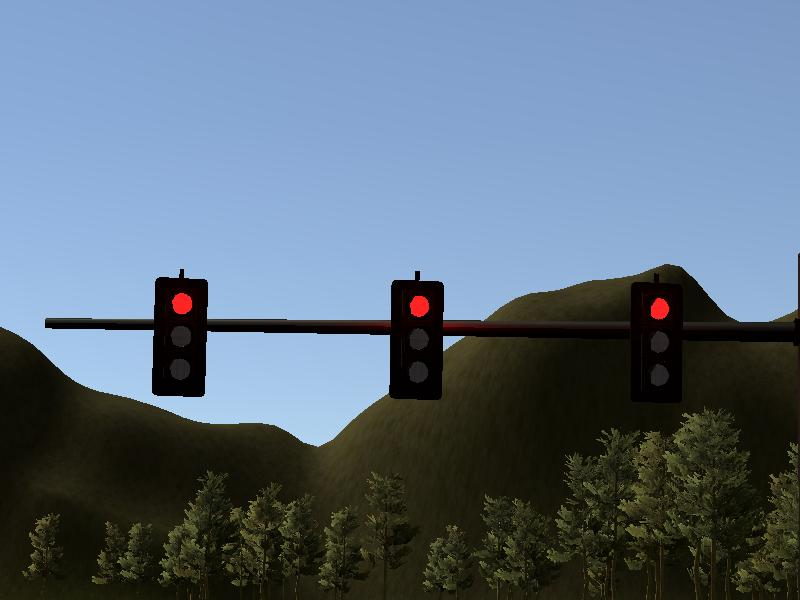red: (630, 280, 685, 405), (389, 278, 444, 401), (153, 275, 207, 399)
